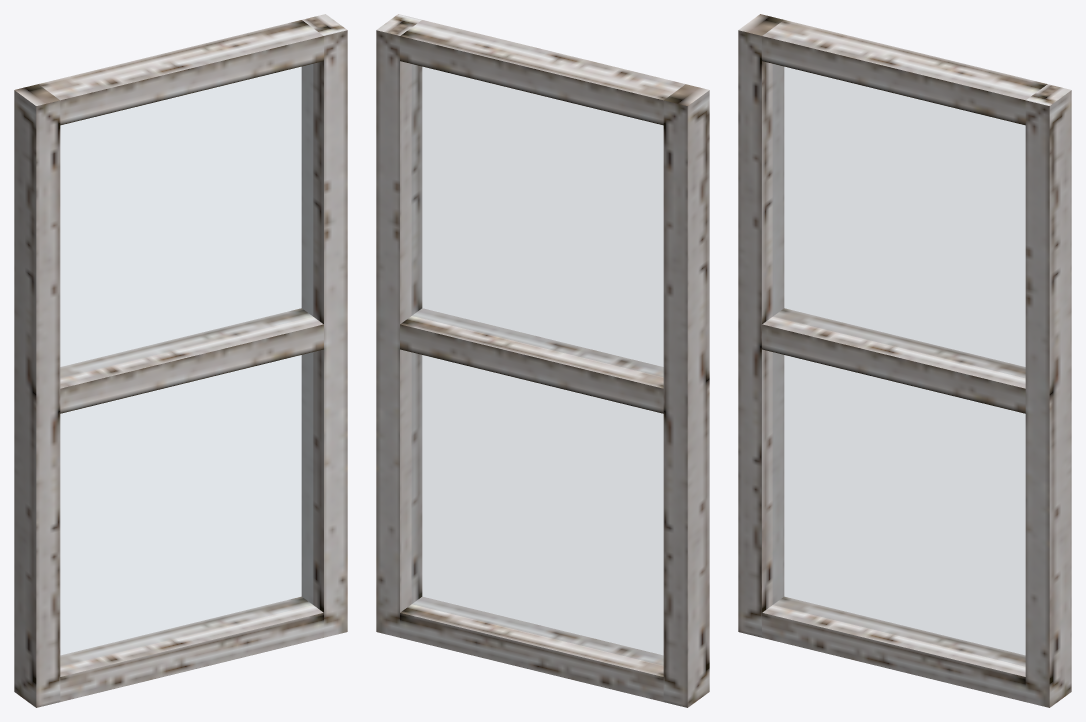
File: Insert_Window_01_W1000_H2800_ModelRolled.fbx
The picture shows the model from 3 angles, left to right: view 1: azimuth 30°, elevation 25°; view 2: azimuth 150°, elevation 25°; view 3: azimuth 330°, elevation 25°; orthographic projection.
Visible parts, largest first — view 1: Body; view 2: Body; view 3: Body.
Part boxes in pixels (x1,y1,x2,y2): Body: (14,14,347,707); Body: (376,14,709,707); Body: (738,14,1071,707).
Bounding box in the file's own units: 65 × 120 × 8.
